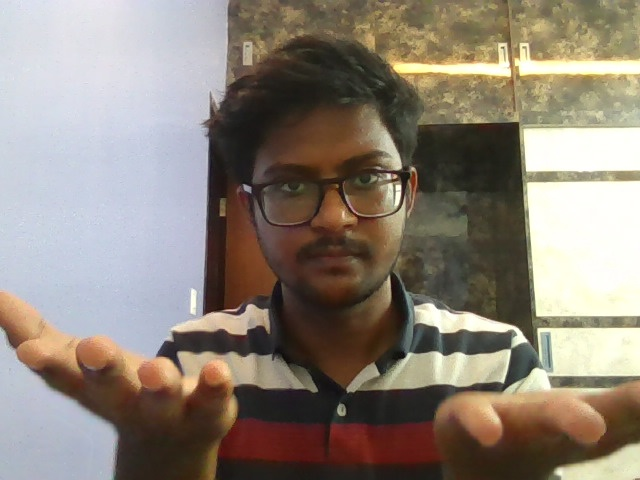what: (1, 284, 640, 480)
